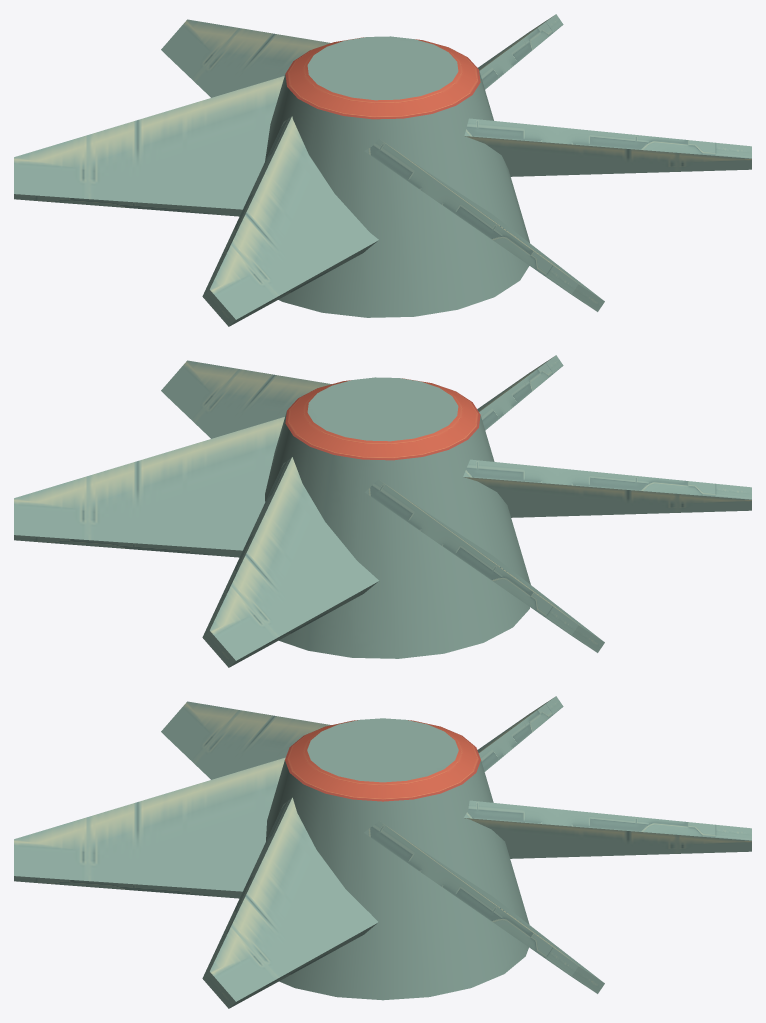
File: EnamelFan.gltf
3 renders of one model, top to bottom at view 1: azimuth 30°, elevation 25°; view 2: azimuth 150°, elevation 25°; view 3: azimuth 270°, elevation 25°, orthographic.
Parts seen in each view (by area): view 1: Prop_Fan_Small_Propeller; view 2: Prop_Fan_Small_Propeller; view 3: Prop_Fan_Small_Propeller.
Part boxes in pixels (box(x1,y1,x2,y2)): Prop_Fan_Small_Propeller: box(14, 14, 751, 326); Prop_Fan_Small_Propeller: box(14, 355, 751, 667); Prop_Fan_Small_Propeller: box(14, 696, 751, 1008).
Size of the model in its own units: 1.06 by 0.3203 by 1.15.
2 materials, 2 textured.
